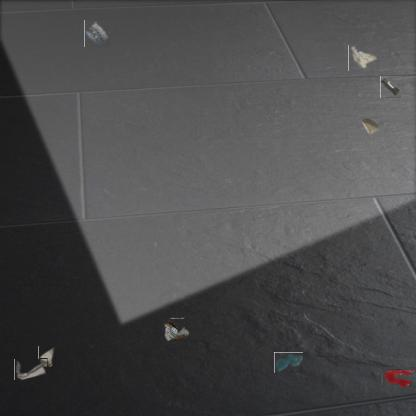dirty: (348, 46, 377, 72), (14, 358, 47, 380), (84, 20, 110, 47), (164, 317, 190, 343), (380, 76, 401, 98), (358, 115, 380, 135), (38, 346, 55, 366)
liquid: (382, 368, 416, 388), (274, 352, 303, 373)
